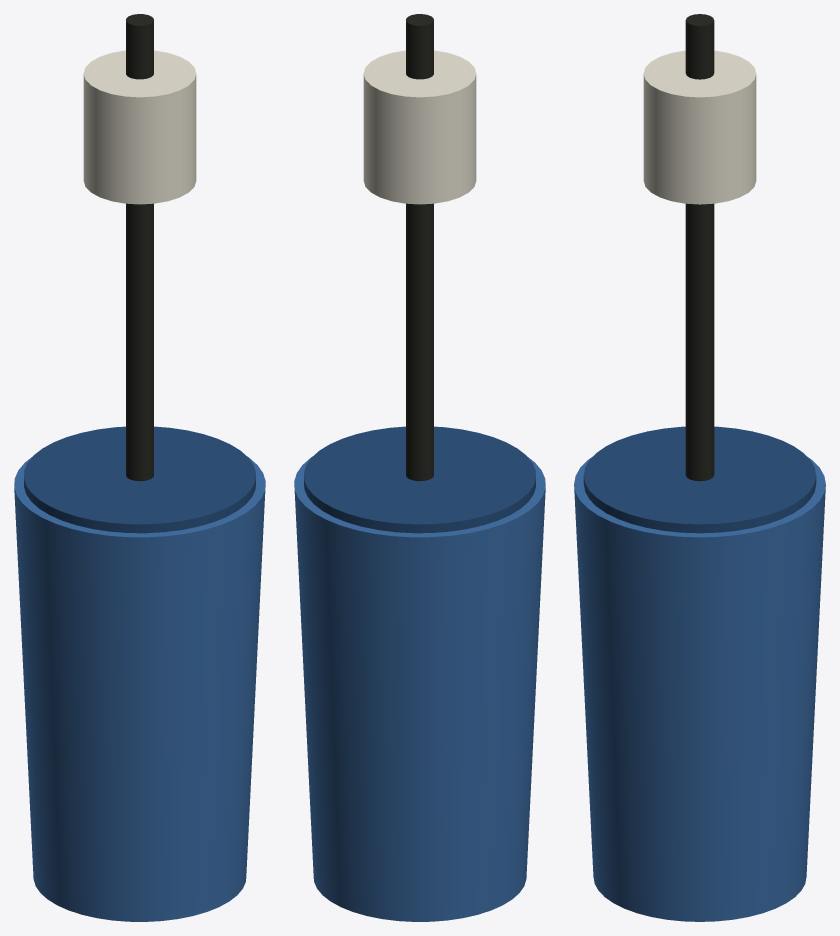
Rendered from ChoiCauBonCau.glb.
3 views of the same model, side by side, from view 1: azimuth 30°, elevation 25°; view 2: azimuth 150°, elevation 25°; view 3: azimuth 270°, elevation 25° (orthographic).
Parts seen in each view (by area): view 1: ChoiCauBonCau; view 2: ChoiCauBonCau; view 3: ChoiCauBonCau.
Part boxes in pixels (<box>): ChoiCauBonCau: <box>14,14,265,921</box>; ChoiCauBonCau: <box>294,14,545,921</box>; ChoiCauBonCau: <box>574,14,825,921</box>.
Size of the model in its own units: 0.1279 by 0.48 by 0.1279.
